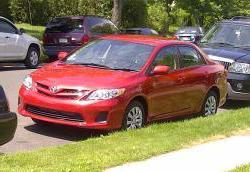Car: (15, 33, 232, 145), (193, 16, 250, 108), (41, 11, 126, 63), (170, 18, 209, 48)
